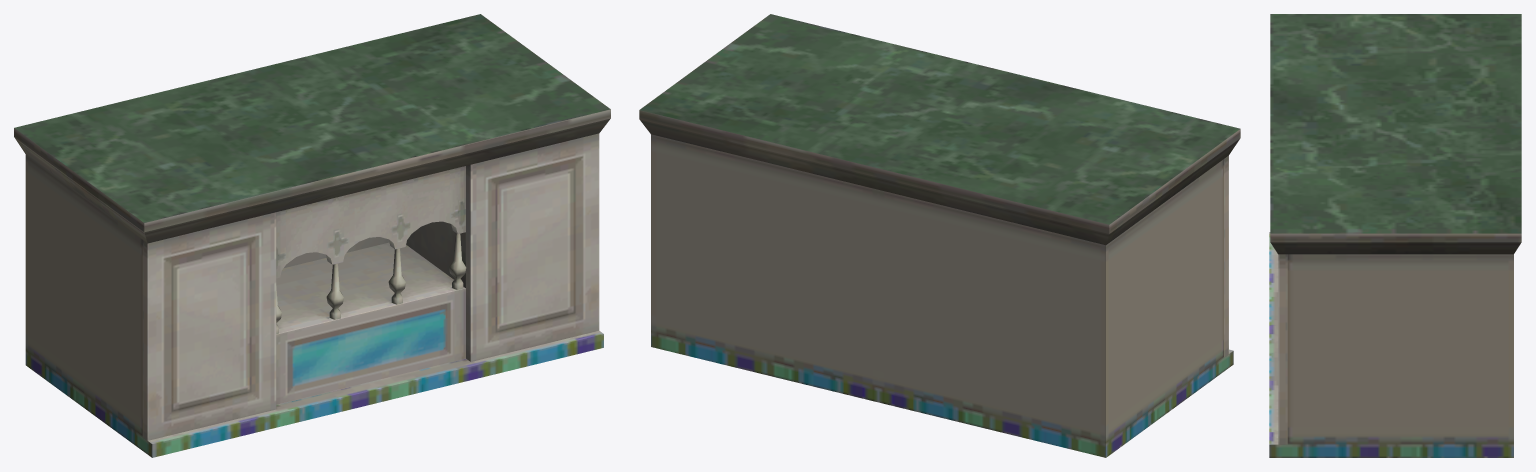
The model's file is furni_0200620_03.FBX.
3 views of the same model, side by side, from view 1: azimuth 30°, elevation 25°; view 2: azimuth 150°, elevation 25°; view 3: azimuth 270°, elevation 25° (orthographic). The views are drawn at different scales.
Visible parts, largest first — view 1: furni_0200620_03; view 2: furni_0200620_03; view 3: furni_0200620_03.
Part boxes in pixels (<box>): furni_0200620_03: <box>14,14,610,457</box>; furni_0200620_03: <box>639,14,1240,457</box>; furni_0200620_03: <box>1269,14,1521,457</box>.
Size of the model in its own units: 165 by 79.79 by 80.04.
1 material, 1 textured.
